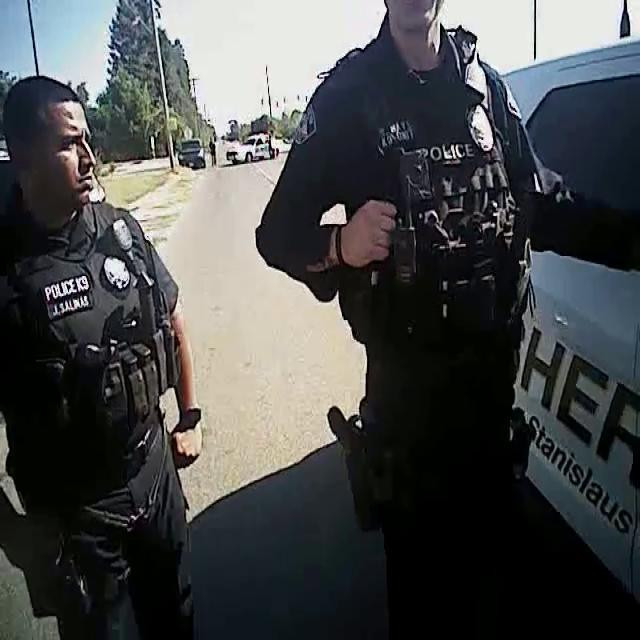gun: (313, 394, 386, 546)
